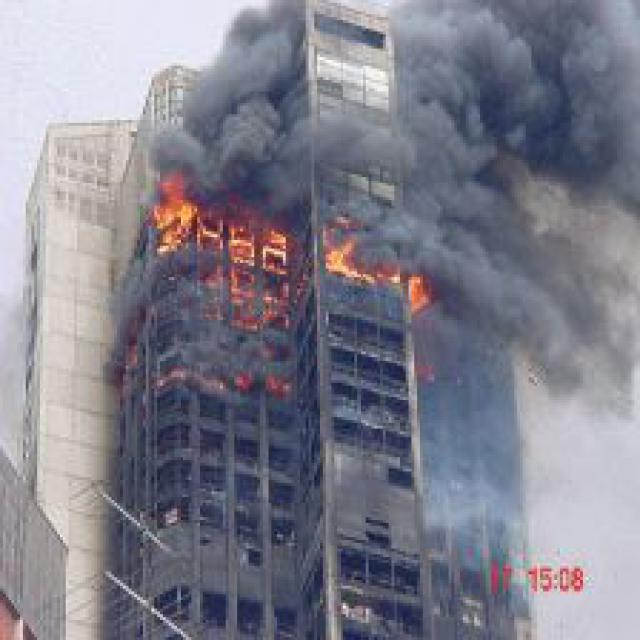fire: (146, 171, 300, 280), (326, 223, 431, 314)
